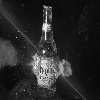beer: (32, 2, 59, 97)
